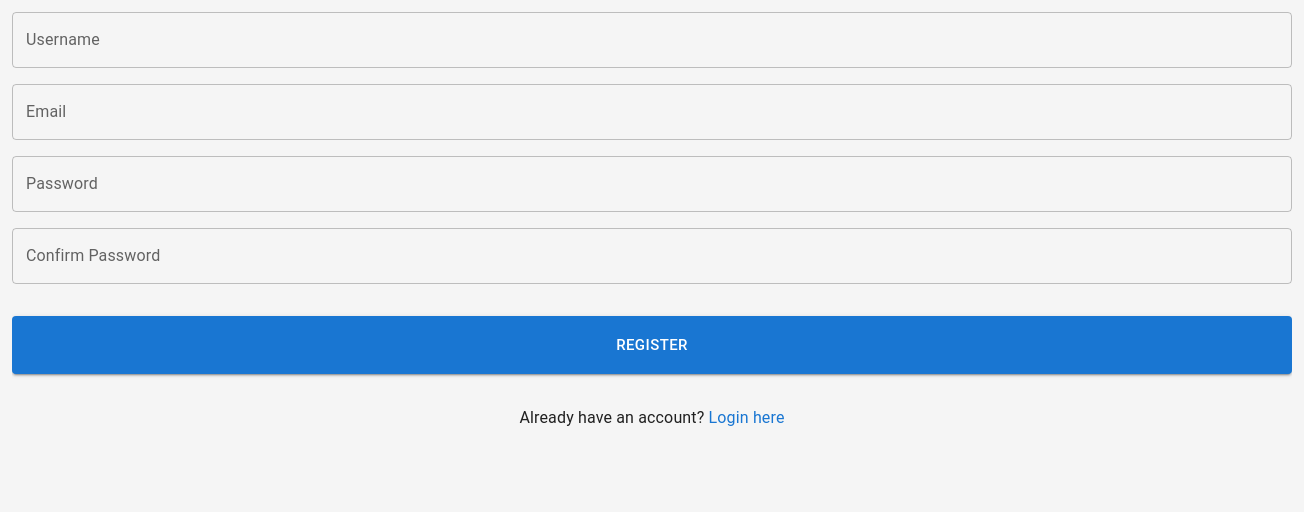
it: RegisterForm › Wrong input validations › Passwords do not match, validation check
Type "Password" into the password field labelled "Password".
click(652, 184); type("Password")  # box [12,156,1292,212]
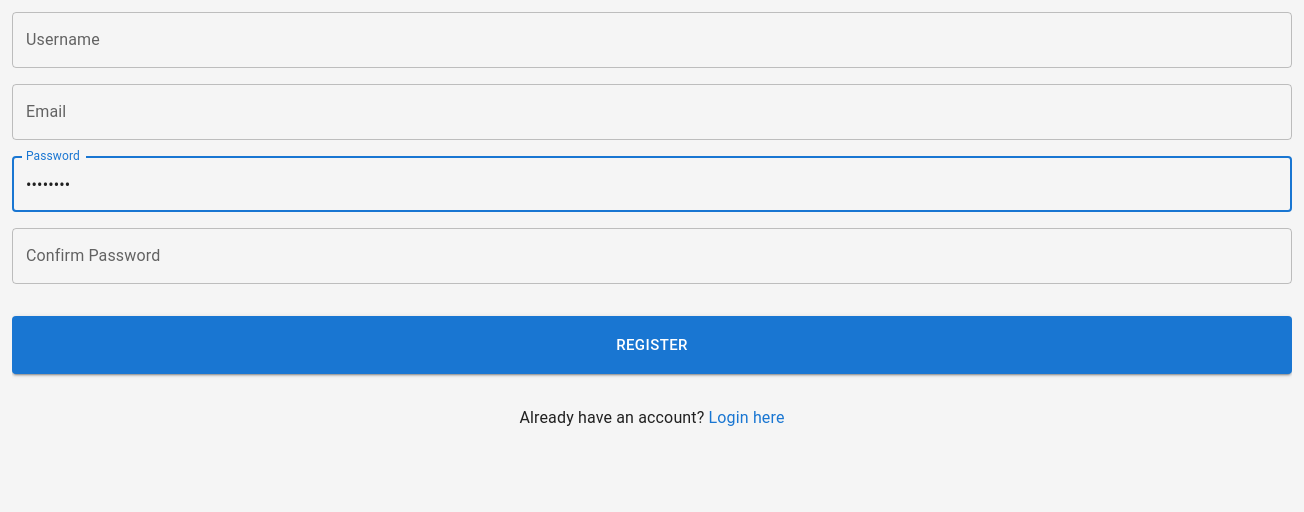
Type "Password123" into the password field labelled "Confirm Password".
click(652, 256); type("Password123")  # box [12,228,1292,284]
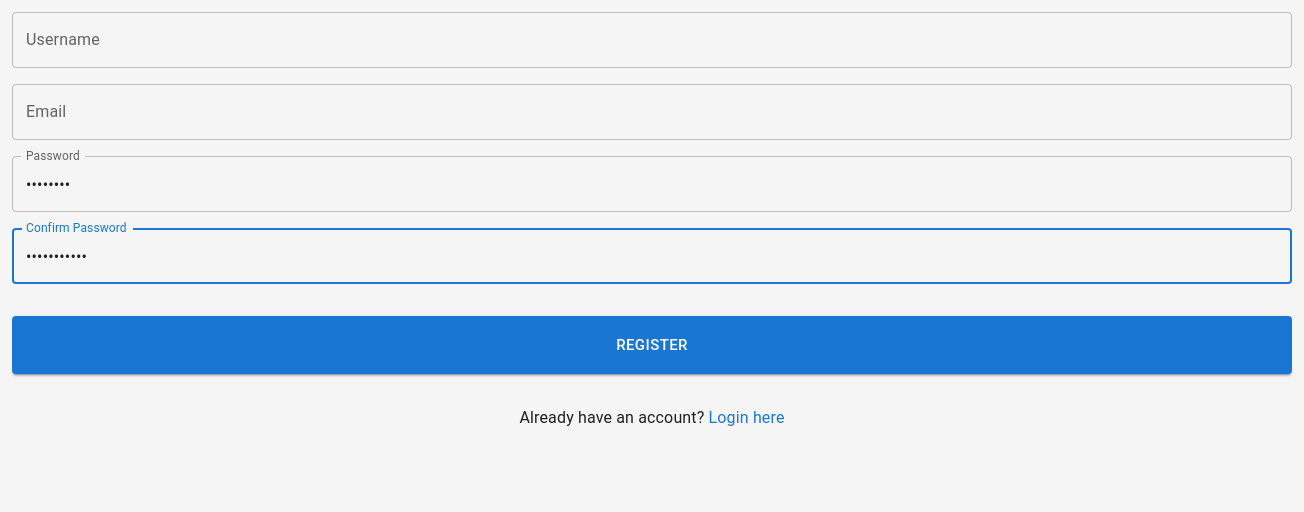
Click the button "Register".
click(652, 345)  # box [12,316,1292,374]
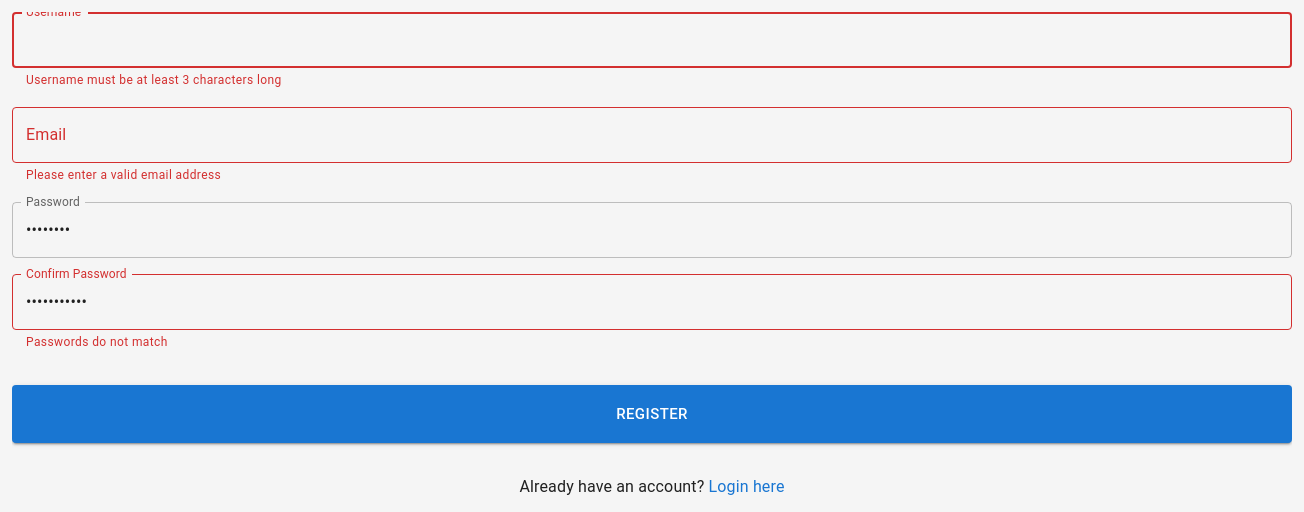
Now the text "Passwords do not match" is shown, box [26,335,168,349]
